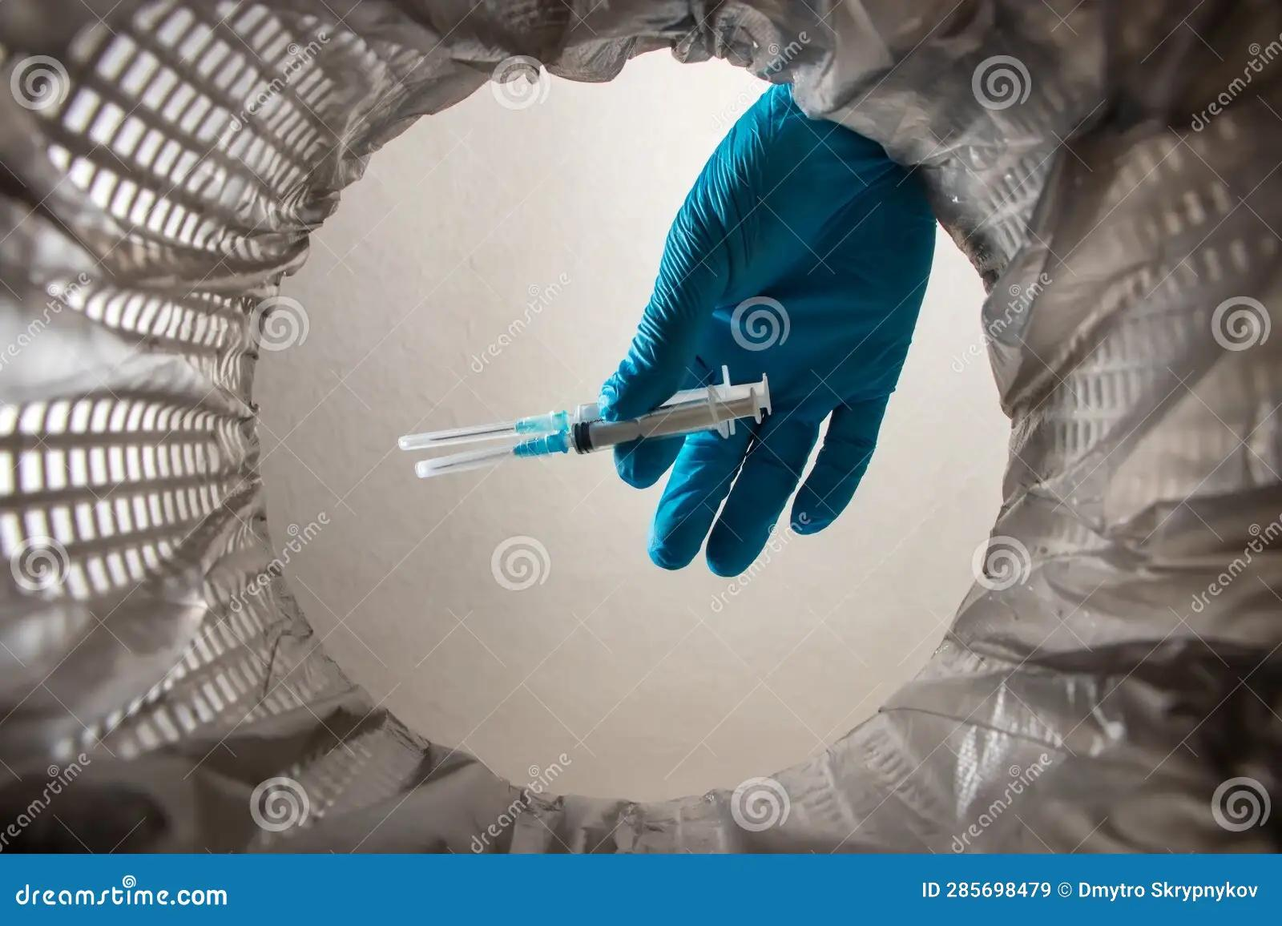Glove: (601, 86, 934, 575)
Syringe: (416, 368, 770, 477), (398, 404, 600, 450)
